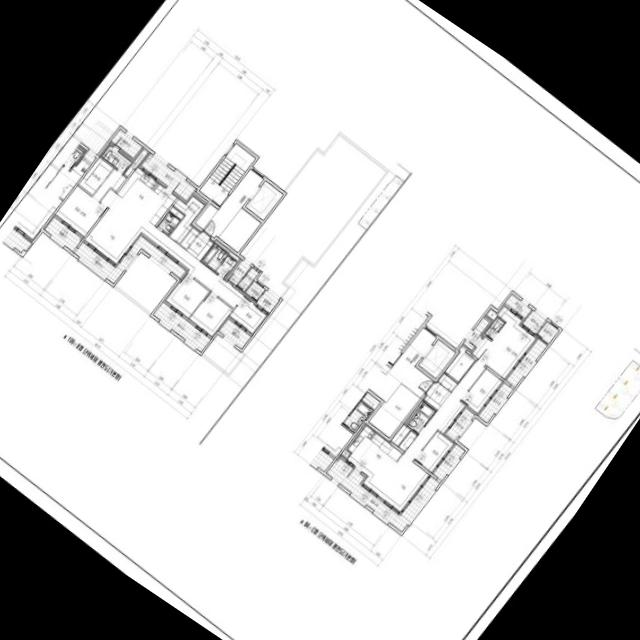background: (0, 0, 640, 640)
space_balconi: (326, 458, 439, 531), (74, 236, 185, 283), (153, 302, 210, 352), (141, 153, 195, 200), (506, 338, 547, 387), (478, 383, 512, 422), (43, 216, 80, 251), (433, 444, 464, 480), (219, 319, 251, 349), (446, 408, 474, 440), (111, 129, 141, 157), (463, 318, 489, 350), (505, 294, 531, 318), (227, 260, 250, 285), (522, 310, 546, 333), (256, 290, 279, 313), (310, 449, 333, 471)
space_bedroom: (54, 168, 126, 238), (471, 304, 538, 379), (163, 273, 209, 319), (188, 292, 232, 339), (461, 369, 503, 415), (415, 431, 455, 473), (228, 294, 267, 336)
space_dressroom: (78, 157, 113, 195)
space_elevator: (245, 181, 282, 220), (418, 339, 455, 378)
space_elevator_hall: (195, 169, 263, 252), (368, 327, 436, 402)
space_front: (180, 226, 214, 261), (422, 381, 451, 410)
space_kitchen: (347, 424, 402, 491), (117, 165, 178, 224)
space_living_room: (83, 189, 245, 308), (373, 361, 485, 512), (323, 424, 353, 456)
space_multipurpose_space: (170, 193, 206, 243)
space_other: (368, 383, 420, 438), (444, 344, 475, 382), (341, 422, 366, 457), (124, 148, 148, 176), (214, 238, 240, 260), (237, 267, 258, 291), (390, 424, 410, 446), (437, 372, 457, 391), (398, 430, 416, 451), (362, 392, 380, 409), (485, 308, 498, 320), (170, 207, 183, 219), (194, 192, 208, 203)
space_outdoor_room: (537, 321, 558, 343), (245, 281, 264, 300)
space_staircase: (199, 143, 255, 205), (388, 314, 428, 364)
space_toilet: (202, 244, 236, 277), (406, 402, 435, 433), (343, 401, 372, 432), (102, 146, 131, 173), (157, 212, 179, 234), (485, 318, 504, 339)
